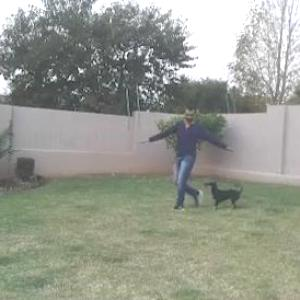land: (158, 105, 238, 200)
